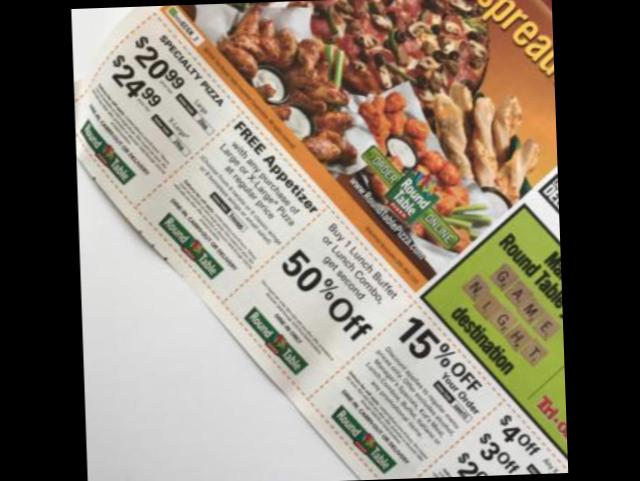cardboard paper: (74, 0, 569, 479)
